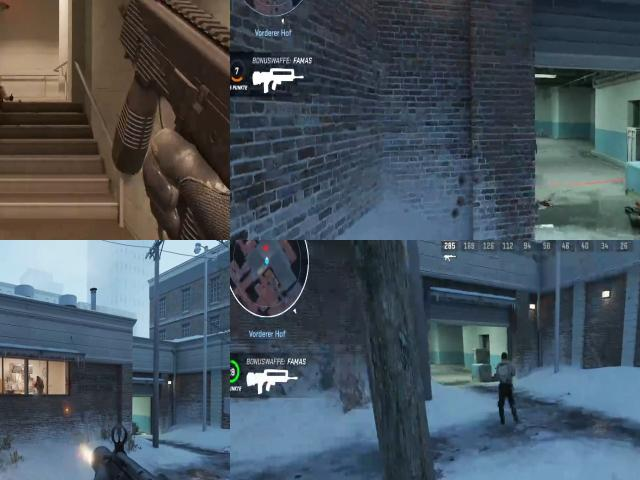CT: (34, 374, 44, 394), (36, 374, 42, 382)
Dead: (0, 74, 19, 114), (619, 200, 640, 235)
T: (495, 352, 513, 388)
T-Head: (500, 348, 512, 368)
